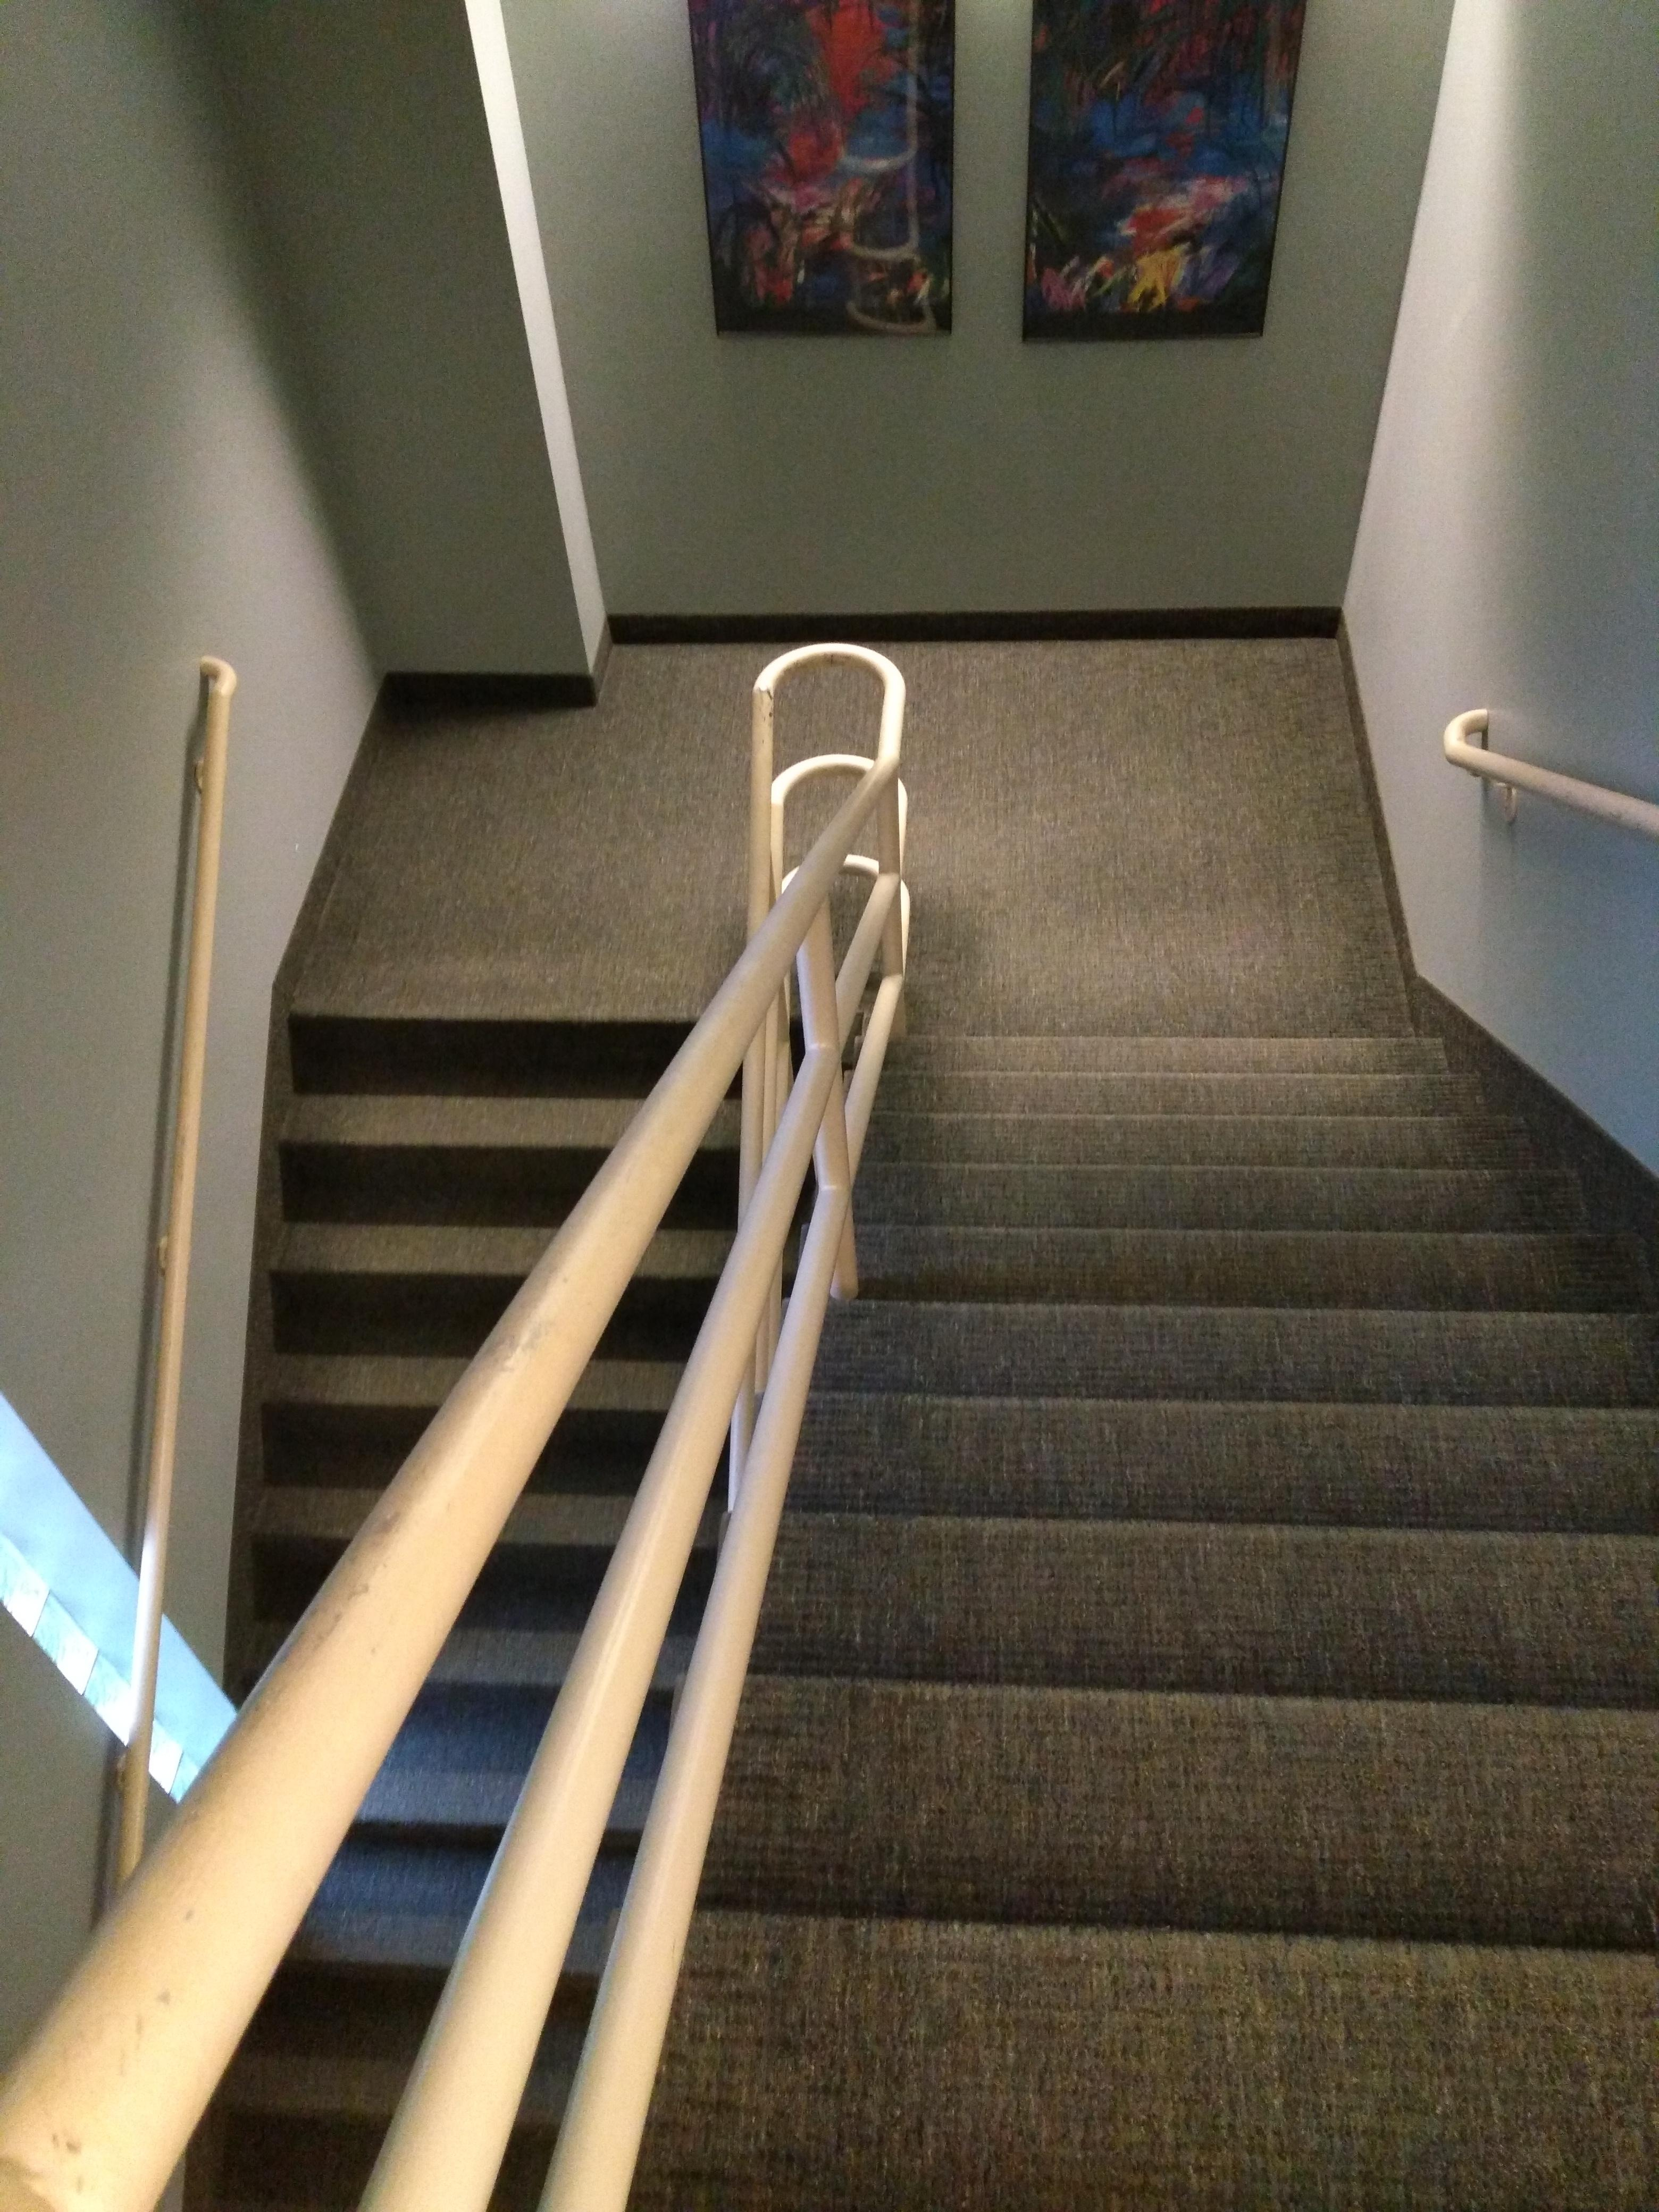stairs_down: (887, 960, 1656, 2078)
